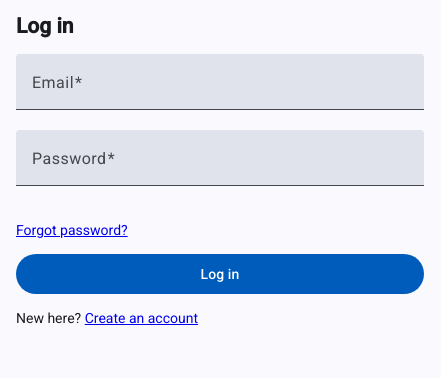
Test: LoginComponent › US-02 S4: shows the generic message on failed login
The width and height of the screenshot is (441, 378).
Step 1. Type "a@x.com" into the field labelled "Email" → (220, 90), box [32, 78, 408, 102]
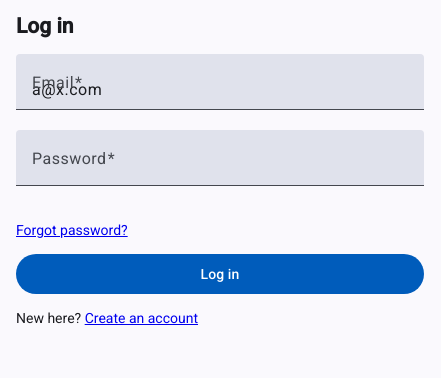
Step 2. Type "abc12345" into the password field labelled "Password" → (220, 166), box [32, 154, 408, 178]
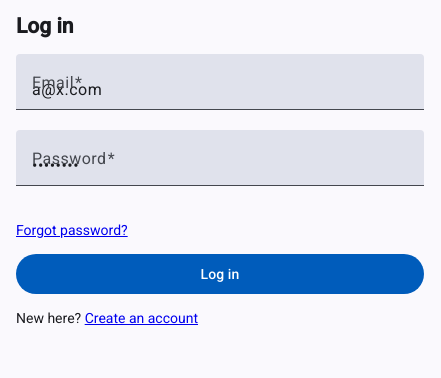
Step 3. Submit the form, box [16, 54, 424, 294]
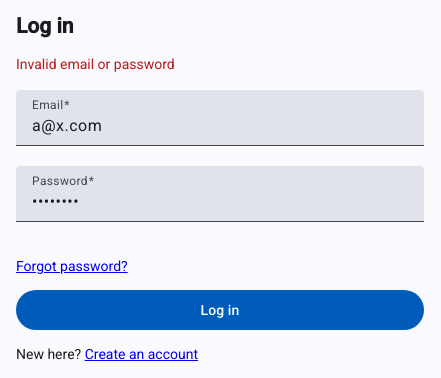
Now the text "Invalid email or password" is shown, box [16, 56, 175, 72]
